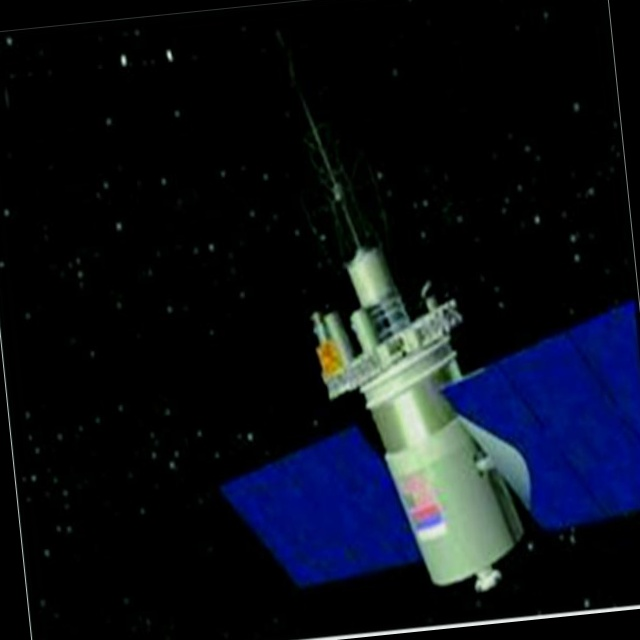satellite: (169, 1, 640, 639)
